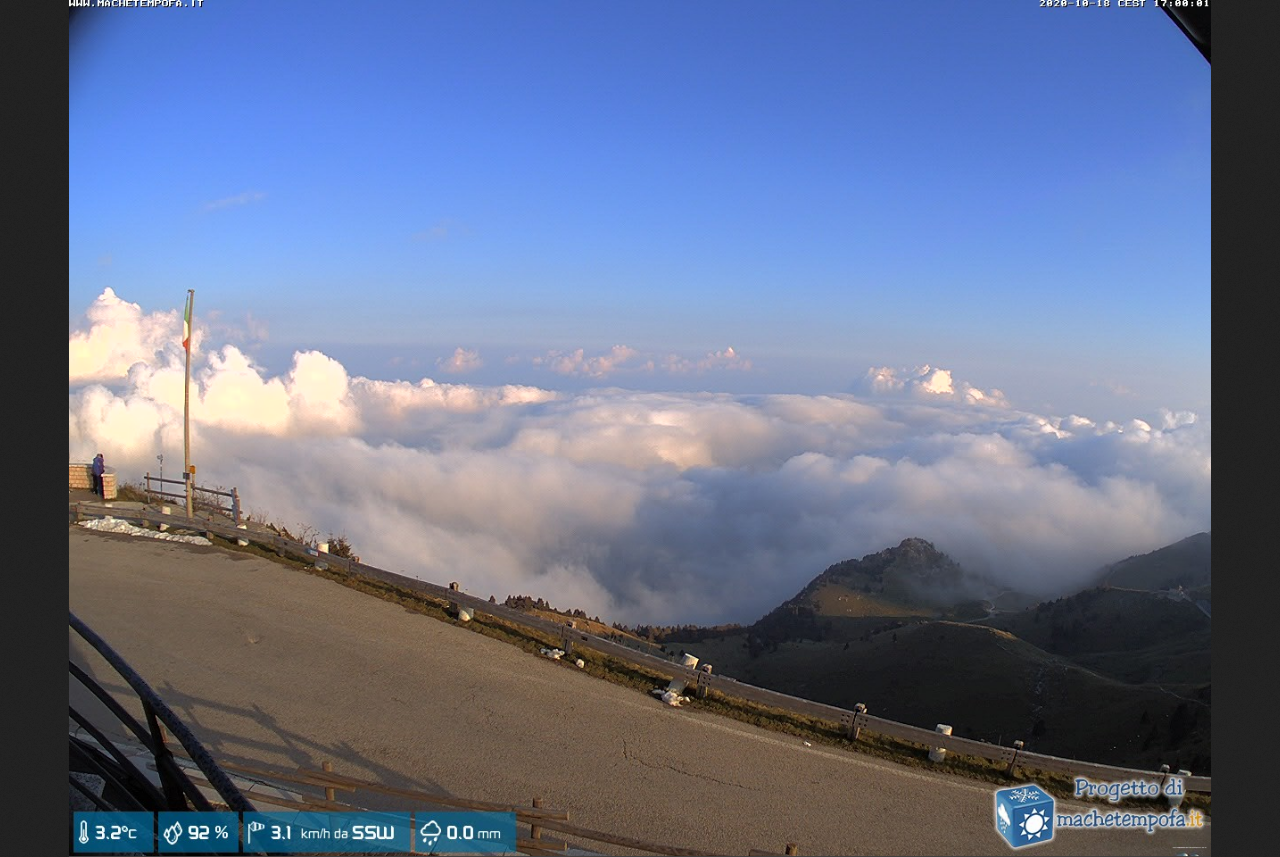no: (176, 294, 196, 347)
